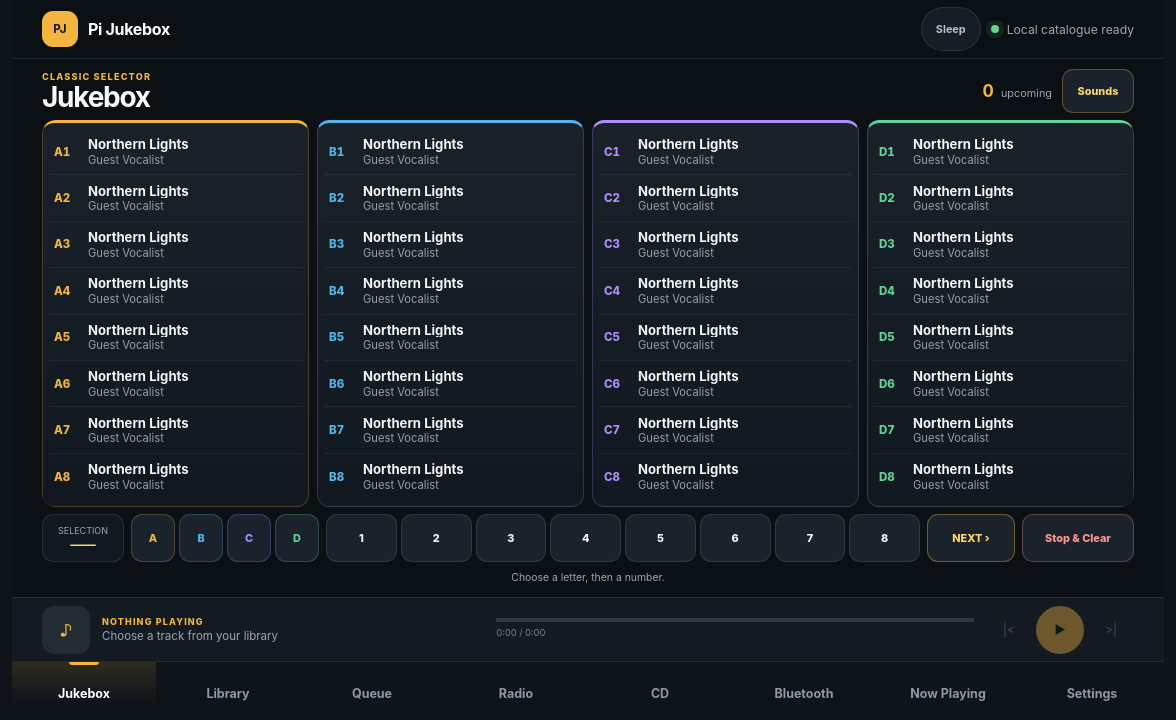
Test: App catalogue interface › shows clean disc headings for a genuinely multi-disc album
Click the button "Library": coordinates (228, 691) [156,662,300,719]
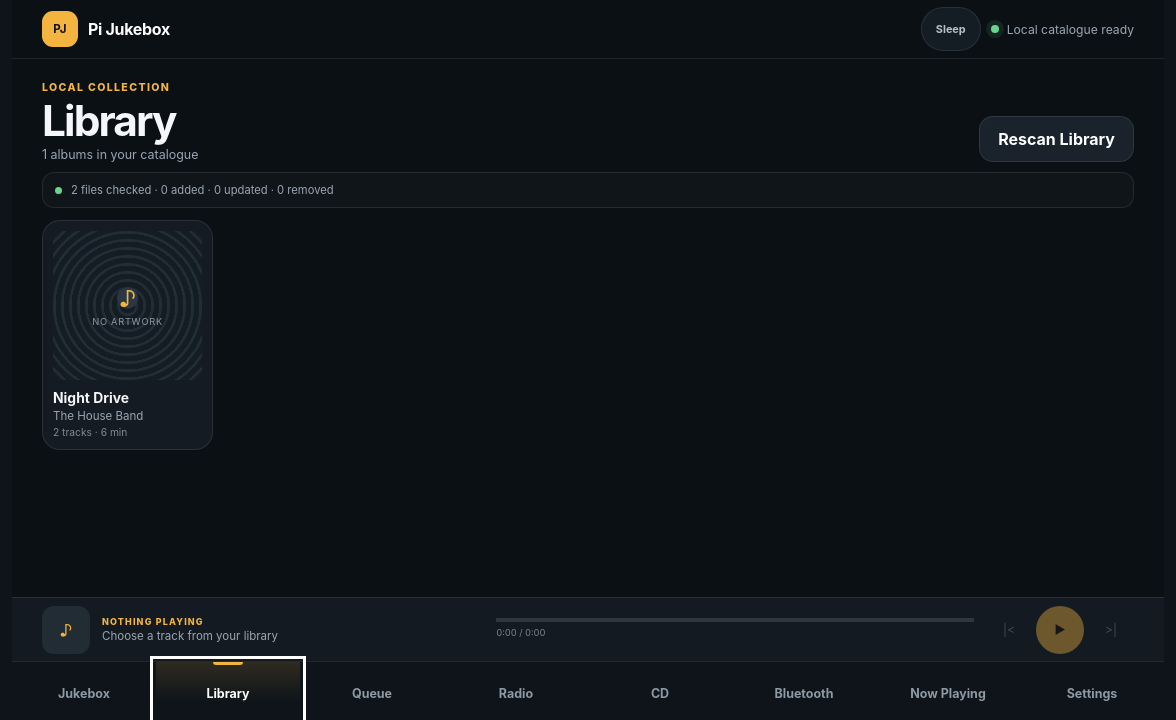
Click the button with aria-label "Open Night Drive by The House Band": coordinates (128, 335) [42,220,213,450]
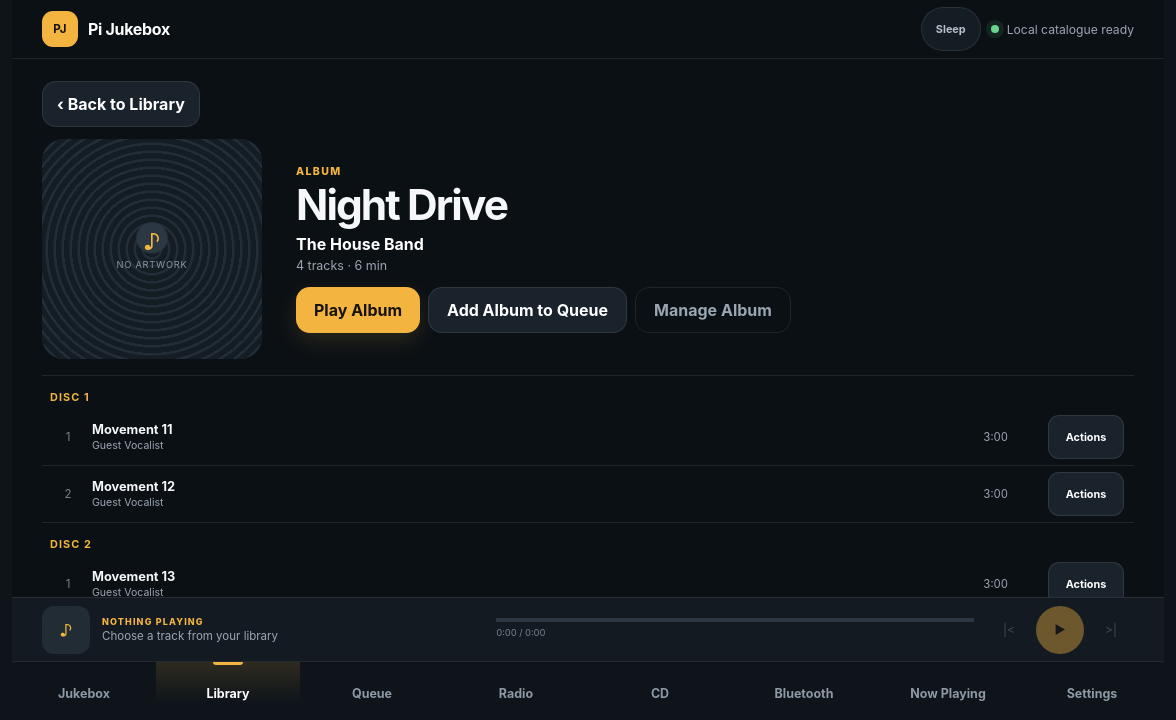
Now the heading "Disc 1" is shown, box [50,390,90,404]
Now the heading "Disc 2" is shown, box [50,537,92,551]
Now the text "Movement 11" is shown, box [92,422,173,437]
